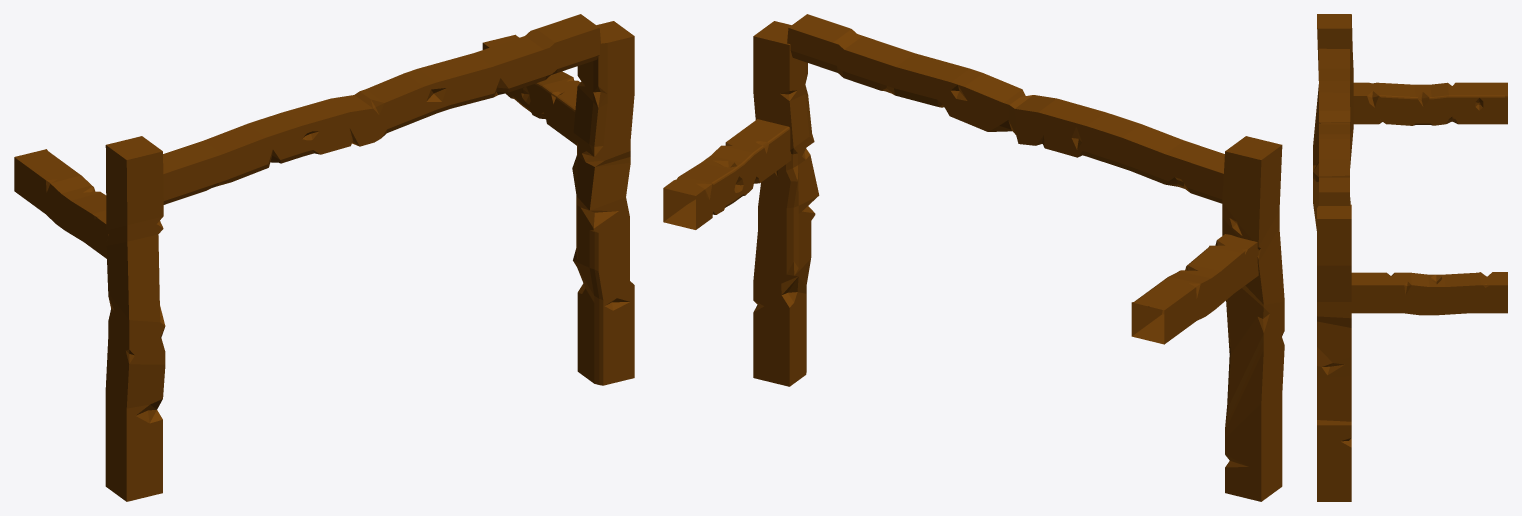
Rendered from cave_wood_segment.fbx.
The picture shows the model from 3 angles, left to right: view 1: azimuth 30°, elevation 25°; view 2: azimuth 150°, elevation 25°; view 3: azimuth 270°, elevation 25°; orthographic projection. The views are drawn at different scales.
Parts seen in each view (by area): view 1: top_wood, right_wood, left_wood, right_join_wood, left_join_wood; view 2: top_wood, right_wood, left_wood, left_join_wood, right_join_wood; view 3: left_wood, right_join_wood, left_join_wood, top_wood, right_wood.
Part boxes in pixels (bbox=[...]): top_wood: bbox=[163, 14, 600, 204]; right_wood: bbox=[105, 136, 165, 501]; left_wood: bbox=[572, 21, 634, 385]; right_join_wood: bbox=[14, 149, 108, 258]; left_join_wood: bbox=[482, 34, 580, 145]; top_wood: bbox=[787, 14, 1224, 203]; right_wood: bbox=[1222, 136, 1284, 501]; left_wood: bbox=[753, 21, 819, 386]; left_join_wood: bbox=[663, 119, 791, 229]; right_join_wood: bbox=[1131, 234, 1258, 344]; left_wood: bbox=[1317, 204, 1351, 501]; right_join_wood: bbox=[1353, 82, 1507, 125]; left_join_wood: bbox=[1351, 272, 1507, 315]; top_wood: bbox=[1318, 48, 1350, 205]; right_wood: bbox=[1313, 14, 1353, 230].
Bounding box in the file's own units: 280 × 188 × 112.
